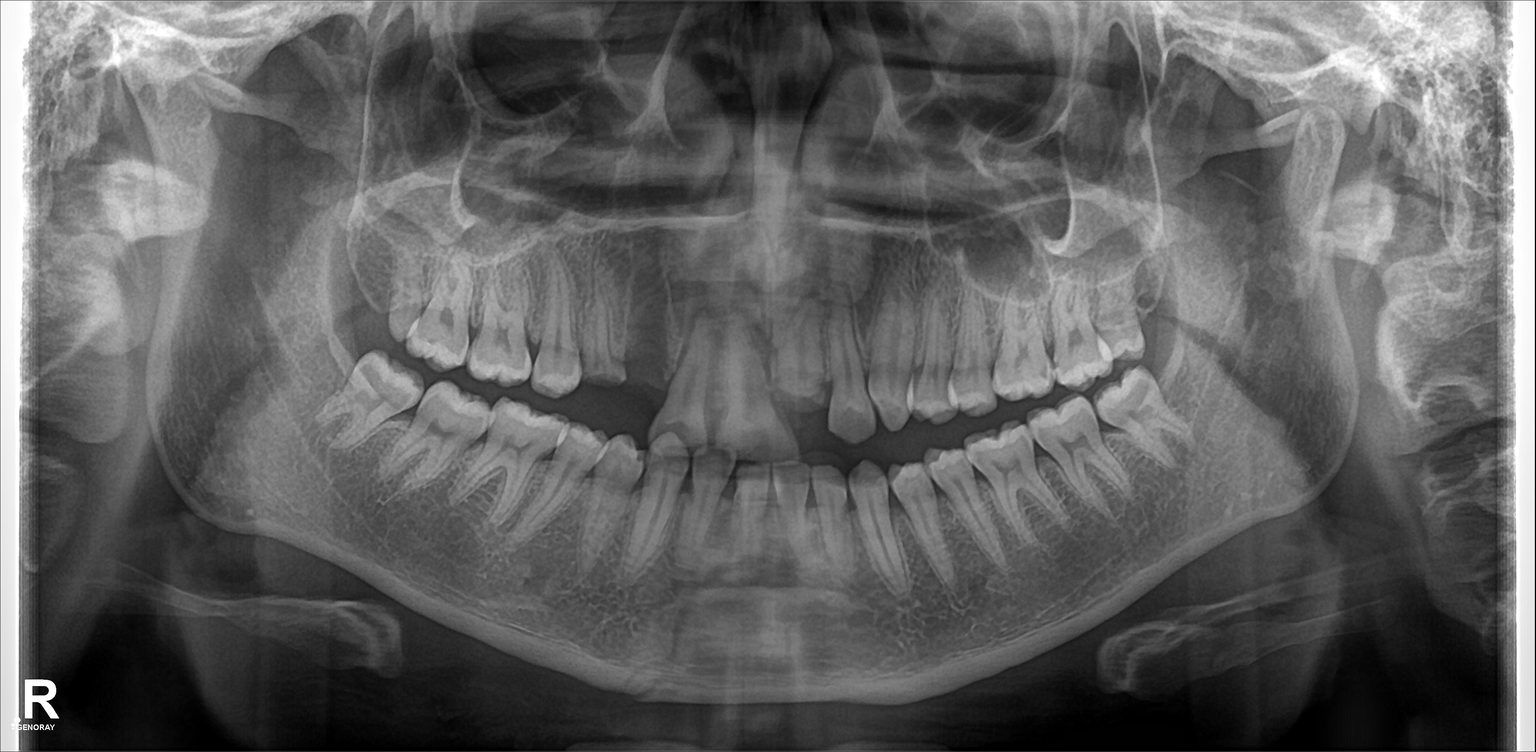Impacted Third Molar: (333, 365, 422, 447), (1112, 380, 1190, 457)
Missing Tooth: (624, 259, 676, 389), (343, 240, 401, 338)
